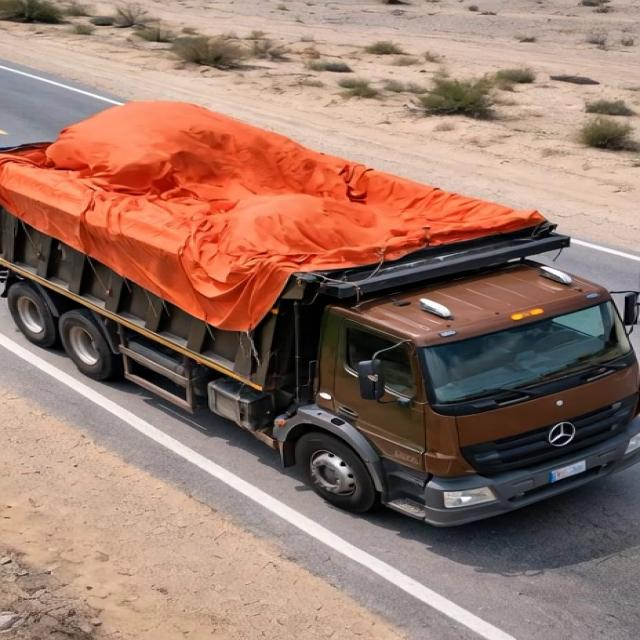trailer: (12, 108, 586, 289)
truck: (0, 66, 628, 512)
